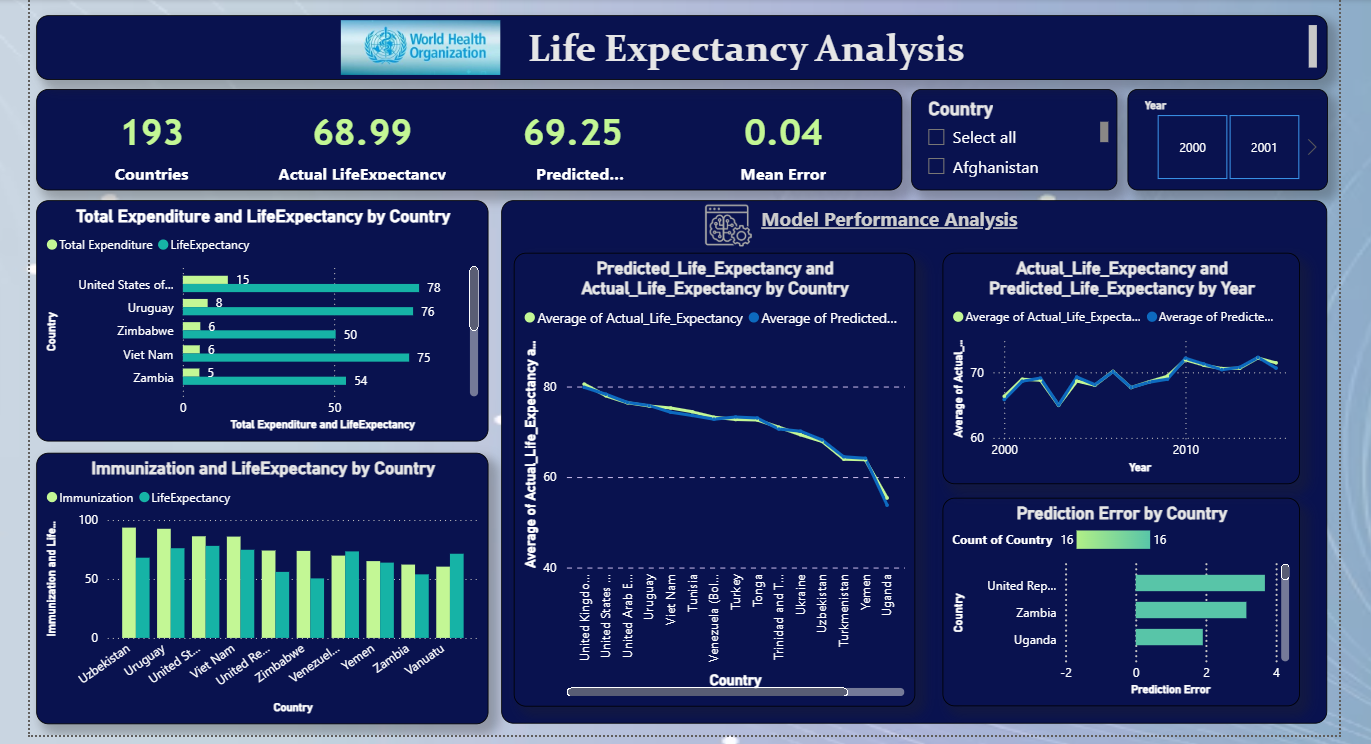

What the dashboard file says about the page in this screenshot:
{"tool":"powerbi","page":{"name":"Page 1","canvas":[1280,720],"ordinal":0},"visuals":[{"type":"clusteredColumnChart","fields":{"Category":["Life Expectancy Data.Country"],"Y":["Avg(Life Expectancy Data.Immunization)","Avg(Life Expectancy Data.LifeExpectancy)"]},"box":[6.1,443.9,442.7,265.4],"z":1000},{"type":"cardVisual","fields":{"Data":["Count(Life Expectancy Data.Country)","Life Expectancy Data.Avg actual LifeExp","life_expectancy_pred.Avg Predicted LifeExp","Avg(life_expectancy_pred.Prediction Error)"]},"box":[6.1,88,847.4,99],"z":2000},{"type":"slicer","fields":{"Values":["Life Expectancy Data.Country"]},"box":[862.1,88,201.8,99],"z":6000},{"type":"slicer","fields":{"Values":["Life Expectancy Data.Year"]},"box":[1073.6,88,195.7,99],"z":7000},{"type":"textbox","box":[6.1,15.9,1263.2,63.6],"z":8000},{"type":"clusteredBarChart","fields":{"Category":["Life Expectancy Data.Country"],"Y":["Avg(Life Expectancy Data.Total Expenditure)","Avg(Life Expectancy Data.LifeExpectancy)"]},"box":[6.1,196.9,442.7,236],"z":9000},{"type":"textbox","box":[470.8,196.9,798.5,512.4],"z":9001},{"type":"lineChart","title":"Predicted_Life_Expectancy and Actual_Life_Expectancy by Country","fields":{"Category":["Life Expectancy Data.Country"],"Y":["Avg(life_expectancy_pred.Actual_Life_Expectancy)","Avg(life_expectancy_pred.Predicted_Life_Expectancy)"]},"box":[485.5,248.2,409.6,443.9],"z":9002},{"type":"lineChart","title":"Actual_Life_Expectancy and Predicted_Life_Expectancy by Year","fields":{"Category":["life_expectancy_pred.Year"],"Y":["Avg(life_expectancy_pred.Actual_Life_Expectancy)","Avg(life_expectancy_pred.Predicted_Life_Expectancy)"]},"box":[931.8,248.2,310.6,226.2],"z":9003},{"type":"barChart","fields":{"Category":["Life Expectancy Data.Country"],"Y":["Avg(life_expectancy_pred.Prediction Error)"]},"box":[937.9,487.9,304.5,204.2],"z":9004},{"type":"textbox","box":[690.9,196.9,299.6,37.9],"z":9005}]}

Visuals, with their boxes in screenshot pixels (x1, y1, x2, y2):
clusteredColumnChart - Life Expectancy Data.Country x Avg(Life Expectancy Data.Immunization): 35,448,485,718
cardVisual - Count(Life Expectancy Data.Country) x Life Expectancy Data.Avg actual LifeExp: 35,86,897,187
slicer - Life Expectancy Data.Country: 905,86,1111,187
slicer - Life Expectancy Data.Year: 1121,86,1320,187
textbox: 35,13,1320,77
clusteredBarChart - Life Expectancy Data.Country x Avg(Life Expectancy Data.Total Expenditure): 35,197,485,437
textbox: 507,197,1320,718
"Predicted_Life_Expectancy and Actual_Life_Expectancy by Country" lineChart: 522,249,939,700
"Actual_Life_Expectancy and Predicted_Life_Expectancy by Year" lineChart: 976,249,1292,479
barChart - Life Expectancy Data.Country x Avg(life_expectancy_pred.Prediction Error): 983,493,1292,700
textbox: 731,197,1036,235
